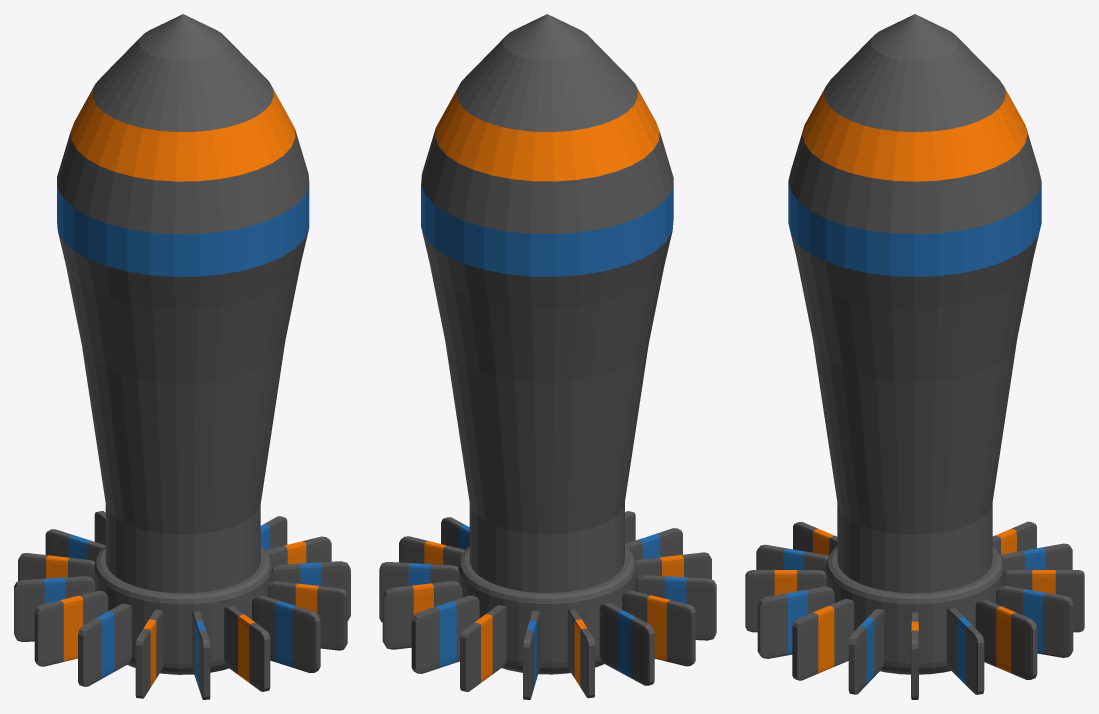
Rendered from weapon_projectile.fbx.
3 views of the same model, side by side, from view 1: azimuth 30°, elevation 25°; view 2: azimuth 150°, elevation 25°; view 3: azimuth 270°, elevation 25° (orthographic).
Parts seen in each view (by area): view 1: Cylinder, Cube; view 2: Cylinder, Cube; view 3: Cylinder, Cube.
Boxes of the visible parts, x1=… form: Cylinder: x1=57, y1=14, x2=309, y2=674; Cube: x1=14, y1=511, x2=350, y2=699; Cylinder: x1=421, y1=14, x2=673, y2=674; Cube: x1=379, y1=511, x2=716, y2=699; Cylinder: x1=788, y1=14, x2=1041, y2=674; Cube: x1=745, y1=521, x2=1084, y2=699.
Bounding box in the file's own units: 25.27 × 51.69 × 25.28.
